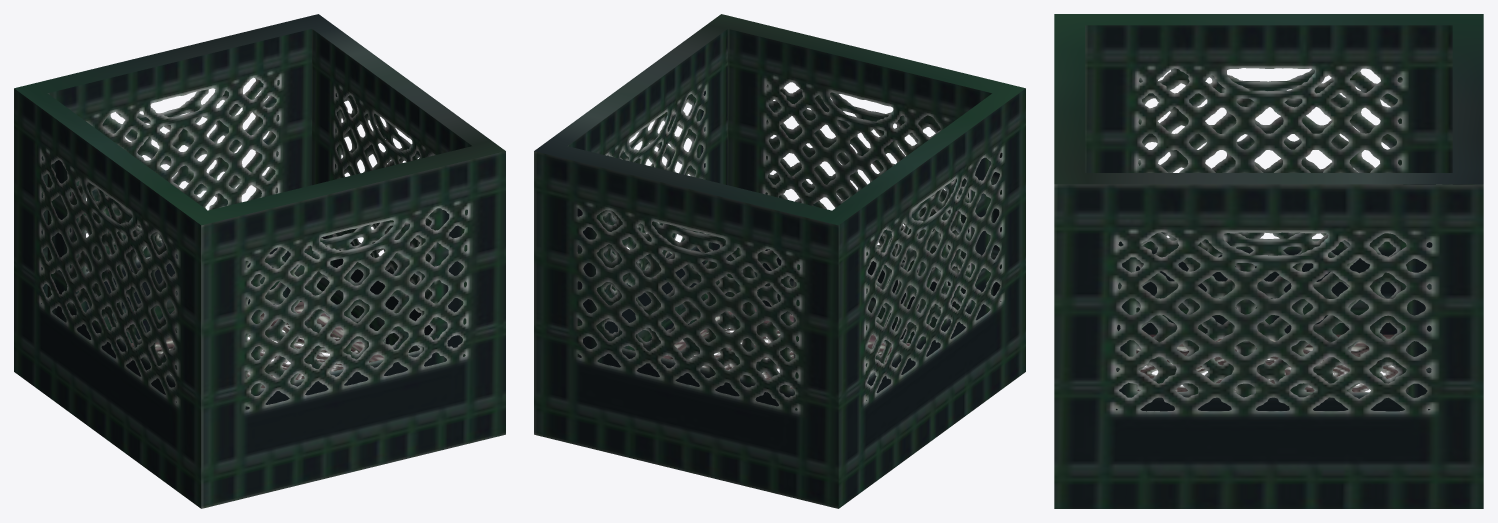
File: milk_crate.FBX
The picture shows the model from 3 angles, left to right: view 1: azimuth 30°, elevation 25°; view 2: azimuth 150°, elevation 25°; view 3: azimuth 270°, elevation 25°; orthographic projection. The views are drawn at different scales.
Visible parts, largest first — view 1: milk_crate; view 2: milk_crate; view 3: milk_crate.
Boxes of the visible parts, bbox=[...] form: milk_crate: bbox=[14, 14, 505, 508]; milk_crate: bbox=[534, 14, 1025, 508]; milk_crate: bbox=[1054, 14, 1483, 508].
Bounding box in the file's own units: 27.53 × 24.49 × 29.33.
